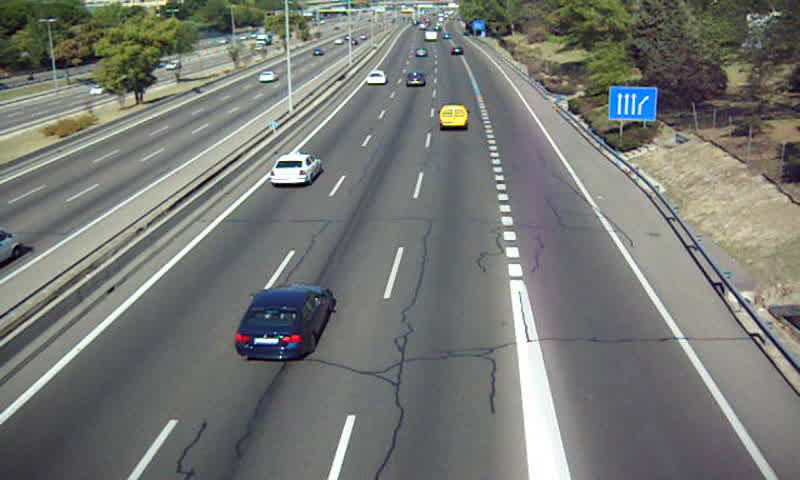car: (235, 284, 333, 359), (268, 154, 323, 185), (365, 70, 388, 86), (405, 71, 426, 87)
van: (439, 105, 469, 129)
